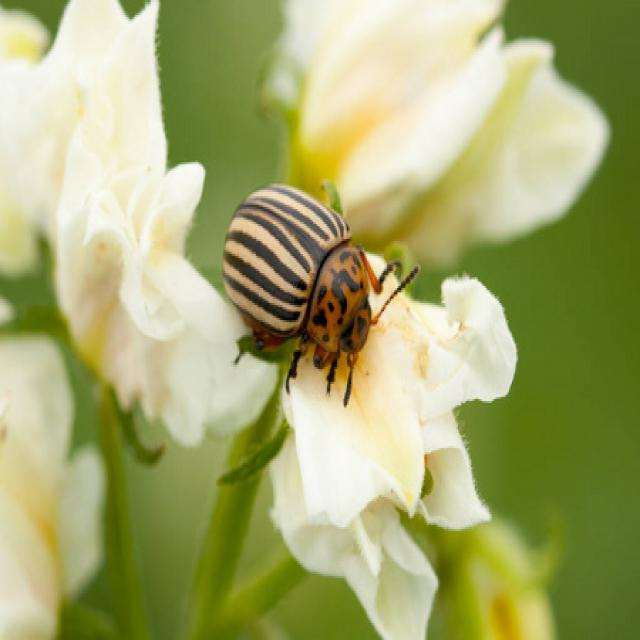ShuCaiHuaBanChong-Grown-: (204, 165, 423, 404)
